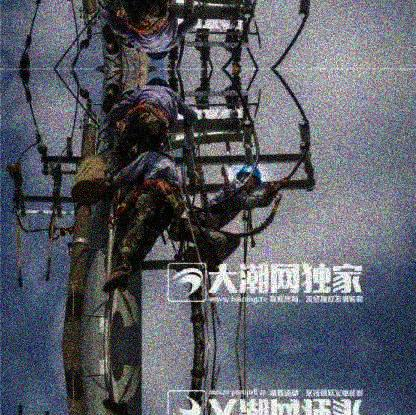helmet: (236, 162, 262, 193)
